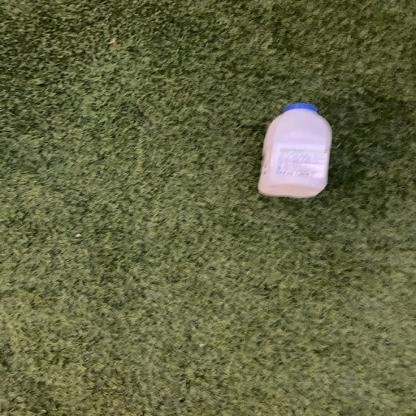trash: (257, 102, 337, 203)
